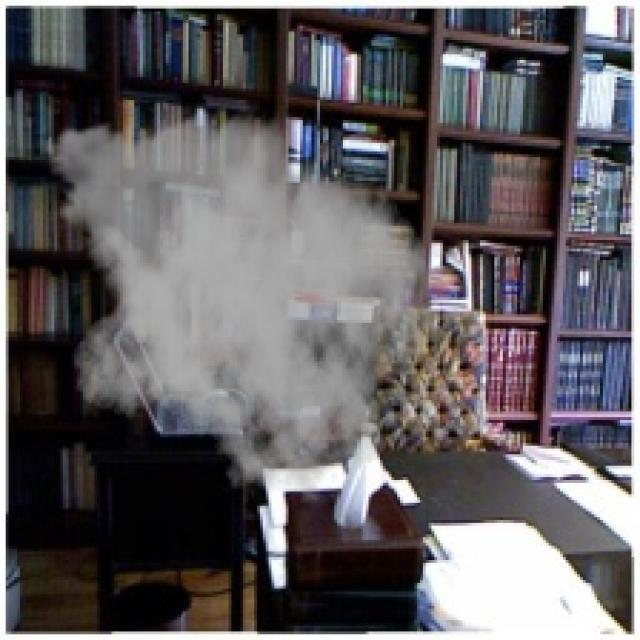Smoke: (32, 100, 434, 506)
